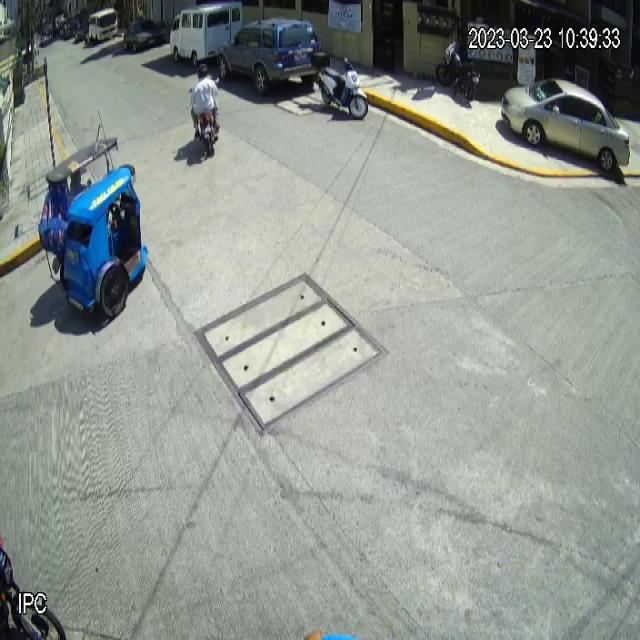Car: (501, 79, 631, 172), (216, 15, 323, 94)
Motorcycle: (312, 51, 368, 120)
Tricycle: (37, 135, 149, 318)
Van: (169, 0, 243, 67)
